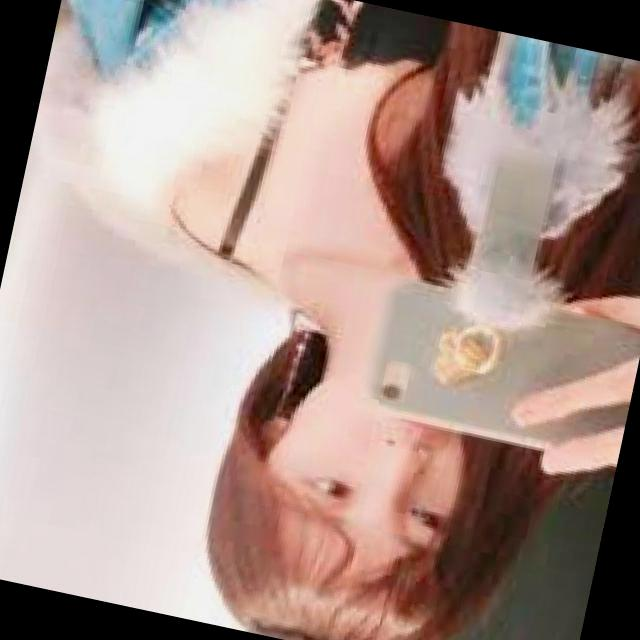phone: (361, 278, 640, 455)
